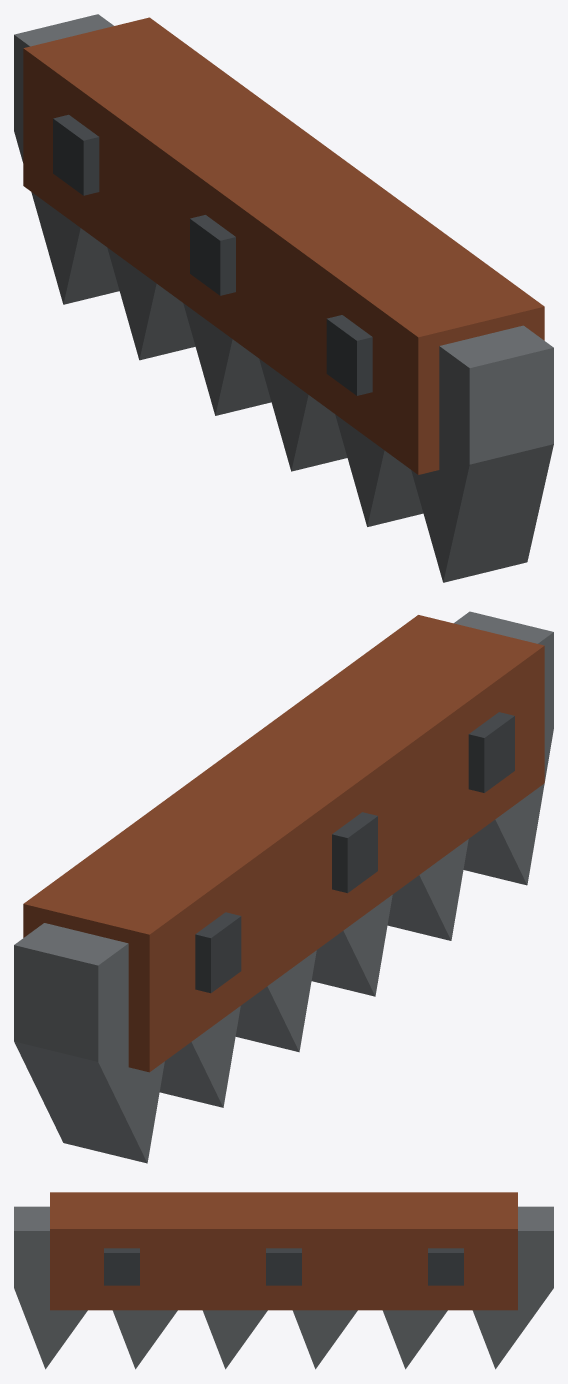
The model's file is mod_melee_edge.glb.
3 renders of one model, top to bottom at view 1: azimuth 30°, elevation 25°; view 2: azimuth 150°, elevation 25°; view 3: azimuth 270°, elevation 25°, orthographic. The views are drawn at different scales.
Visible parts, largest first — view 1: melee_edge; view 2: melee_edge; view 3: melee_edge.
Boxes of the visible parts, box(x1,y1,x2,y2) form: melee_edge: box(14, 14, 553, 582); melee_edge: box(14, 611, 553, 1163); melee_edge: box(14, 1192, 553, 1369).
Bounding box in the file's own units: 0.06 × 0.09 × 0.3.
